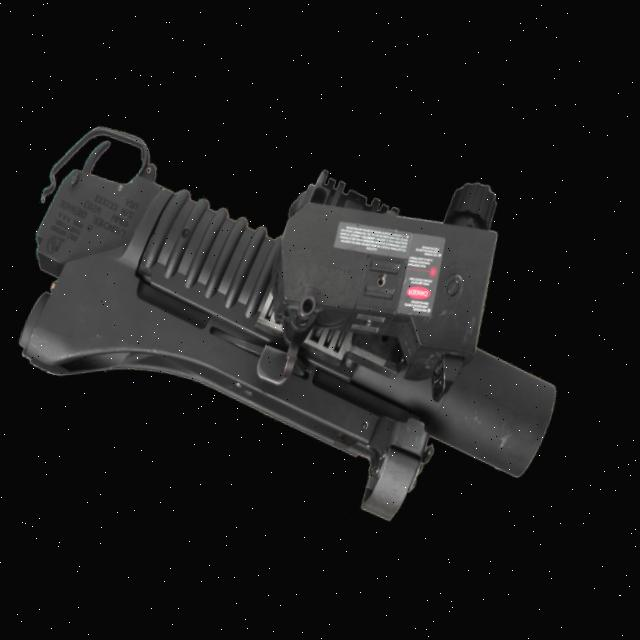rocket: (0, 69, 620, 577)
